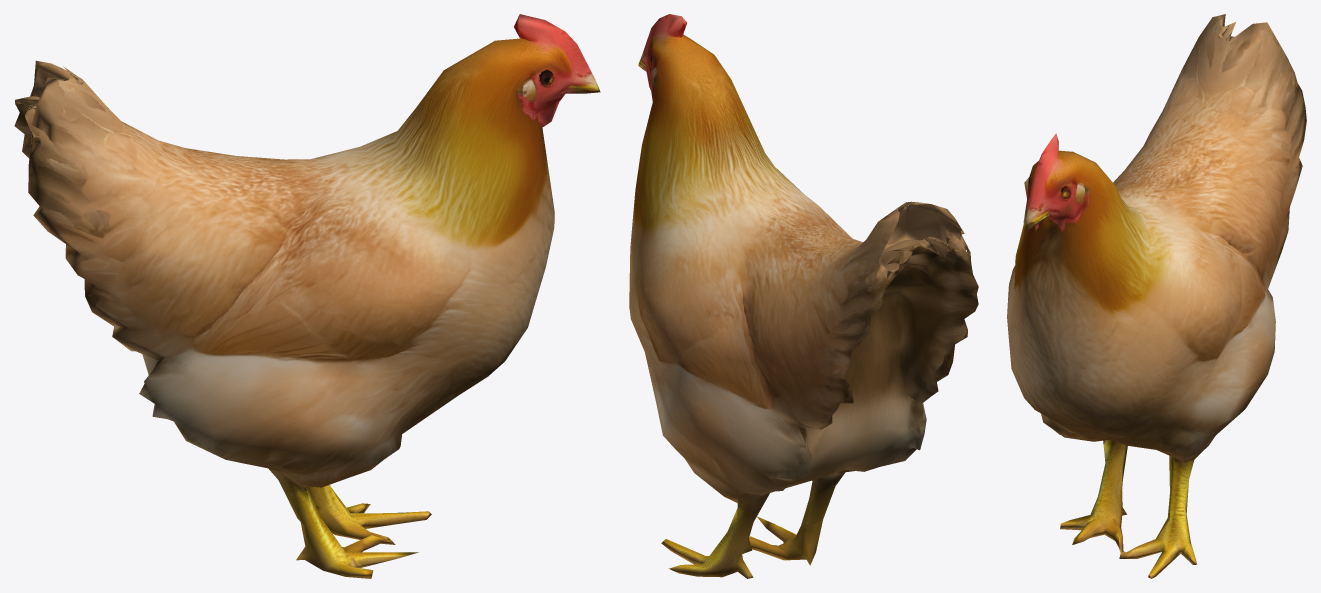
Rendered from chicken_warm_single_1500.glb.
3 views of the same model, side by side, from view 1: azimuth 30°, elevation 25°; view 2: azimuth 150°, elevation 25°; view 3: azimuth 270°, elevation 25° (orthographic). The views are drawn at different scales.
Bounding box in the file's own units: 0.728 × 0.7932 × 0.4627.
Materials: 1 (1 with a texture image).
